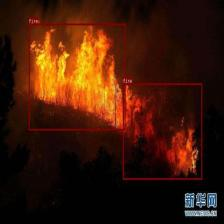fire: (28, 23, 126, 130), (122, 83, 202, 179)
